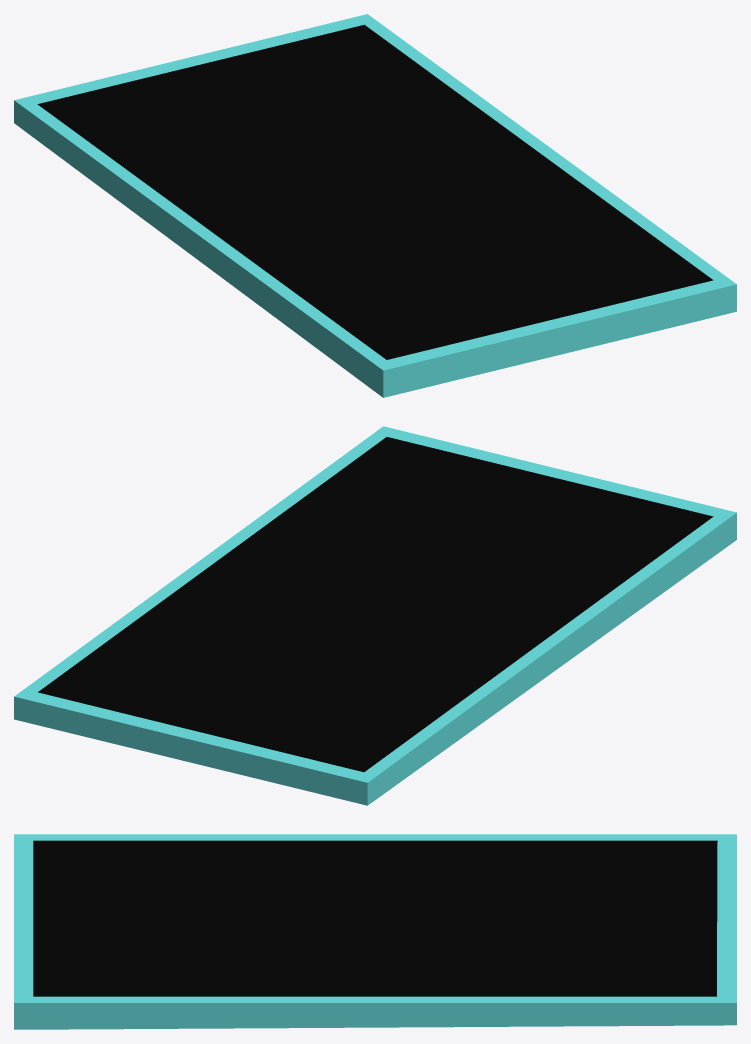
File: Cellphone.fbx
3 renders of one model, top to bottom at view 1: azimuth 30°, elevation 25°; view 2: azimuth 150°, elevation 25°; view 3: azimuth 270°, elevation 25°, orthographic. The views are drawn at different scales.
Parts seen in each view (by area): view 1: cellphone; view 2: cellphone; view 3: cellphone.
Part boxes in pixels (x1,y1,x2,y2): cellphone: [14, 14, 736, 397]; cellphone: [14, 426, 736, 805]; cellphone: [14, 834, 736, 1029].
Size of the model in its own units: 0.0437 by 0.00324 by 0.0791.
